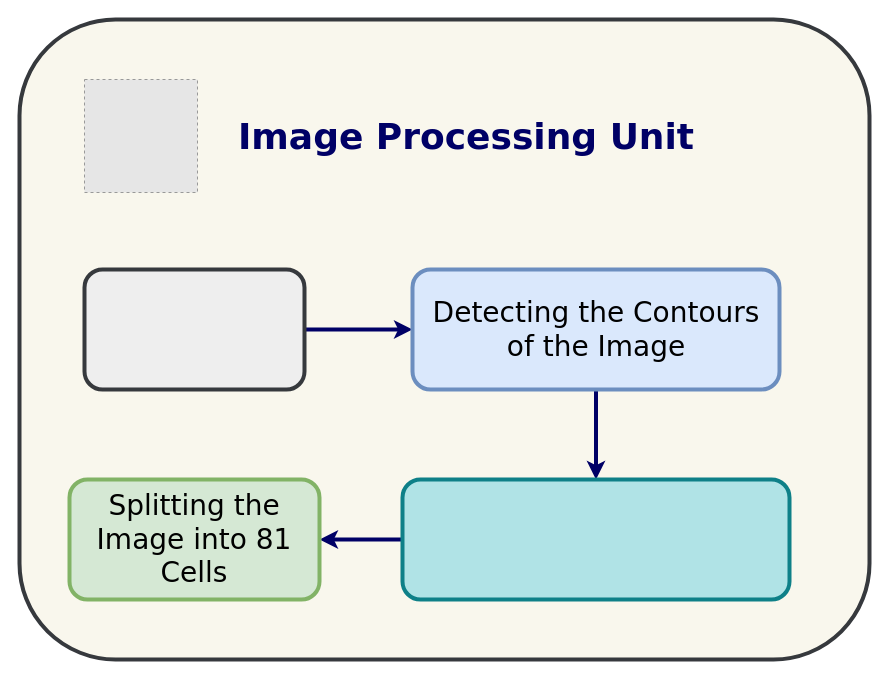
Image size: 888x678. Some labels were removed from this diagram. Grey dashed boxes stand in for pictures. The shapes that lost their labels are listed below. From the top down, each one's box as (x1, y1, x2, y2) in pixels, then its label:
(82, 267, 306, 391): Resizing the Image
(400, 477, 791, 601): Cropping the Image and Making Well-Aligned
